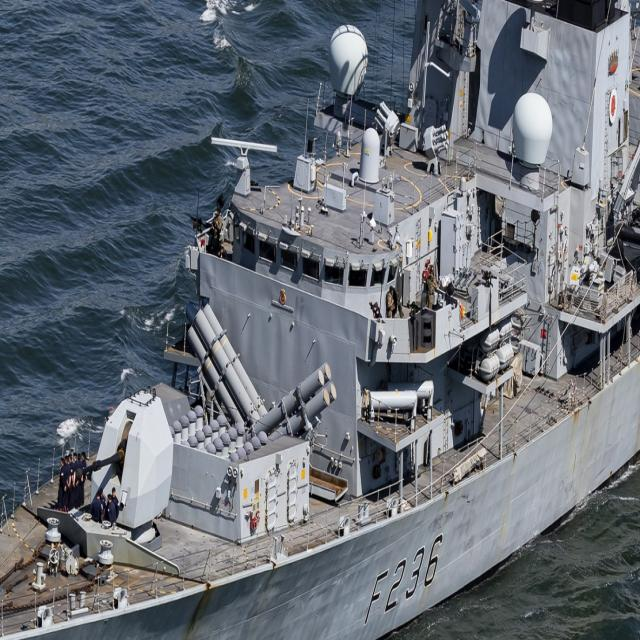Fragata: (1, 1, 488, 640)
